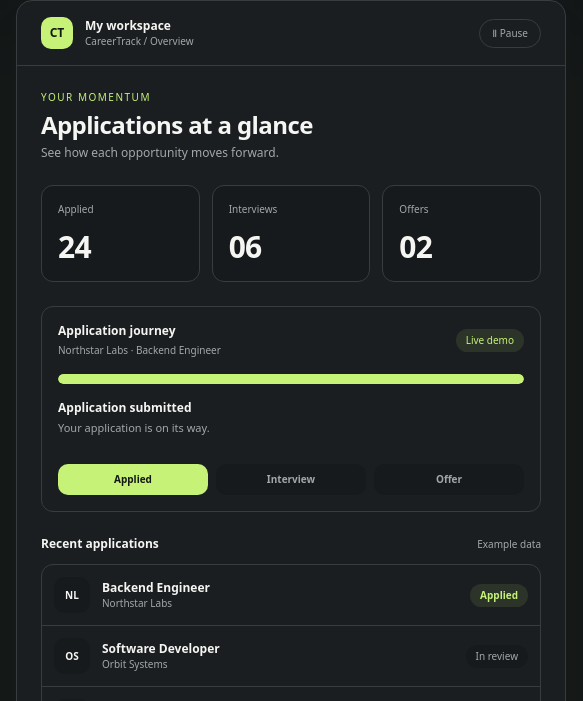
LandingPreview › allows manual stage selection and stops autoplay
This screenshot has width=583, height=701.
Click the button with aria-label "Show Offer stage". click: coordinates (449, 480)
box: [374,464,524,495]
Wait 6400 ms
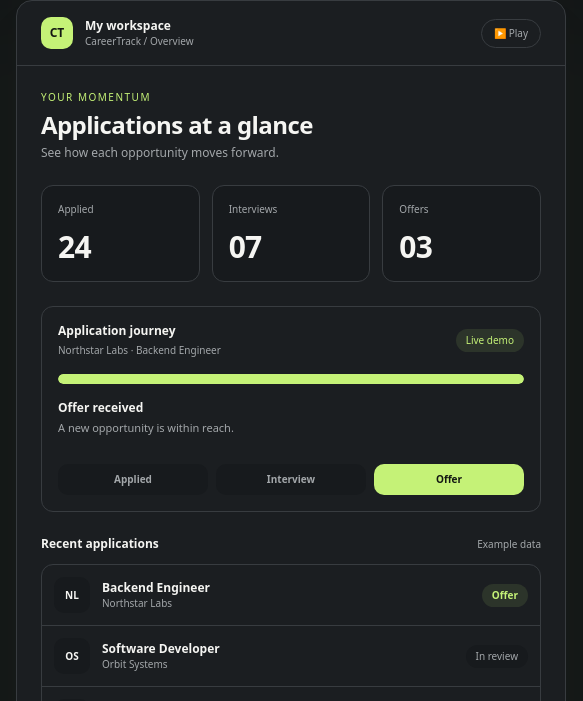
Expected: the text with test id "demo-current-status" reads "Offer", [492,588,518,602]
